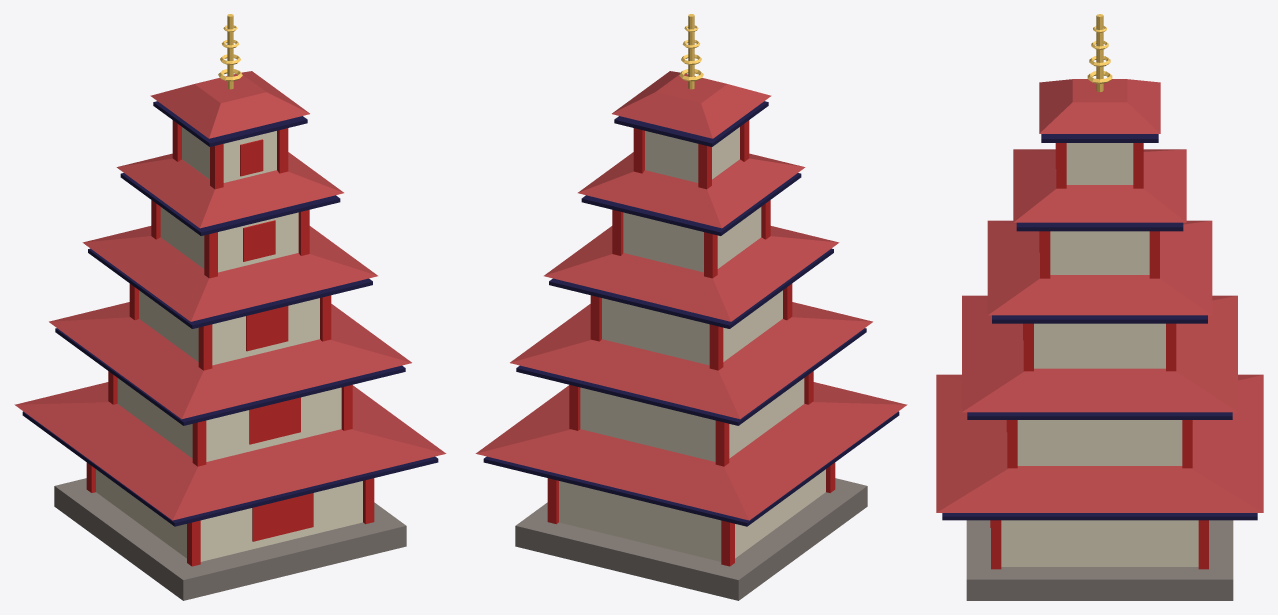
The model's file is pagoda.glb.
3 renders of one model, left to right at view 1: azimuth 30°, elevation 25°; view 2: azimuth 150°, elevation 25°; view 3: azimuth 270°, elevation 25°, orthographic. The views are drawn at different scales.
Parts seen in each view (by area): view 1: pagoda; view 2: pagoda; view 3: pagoda.
Boxes of the visible parts, <box> form: pagoda: <box>14,14,446,600</box>; pagoda: <box>475,14,907,600</box>; pagoda: <box>936,14,1263,600</box>.
Size of the model in its own units: 11.05 by 19.7 by 11.05.
